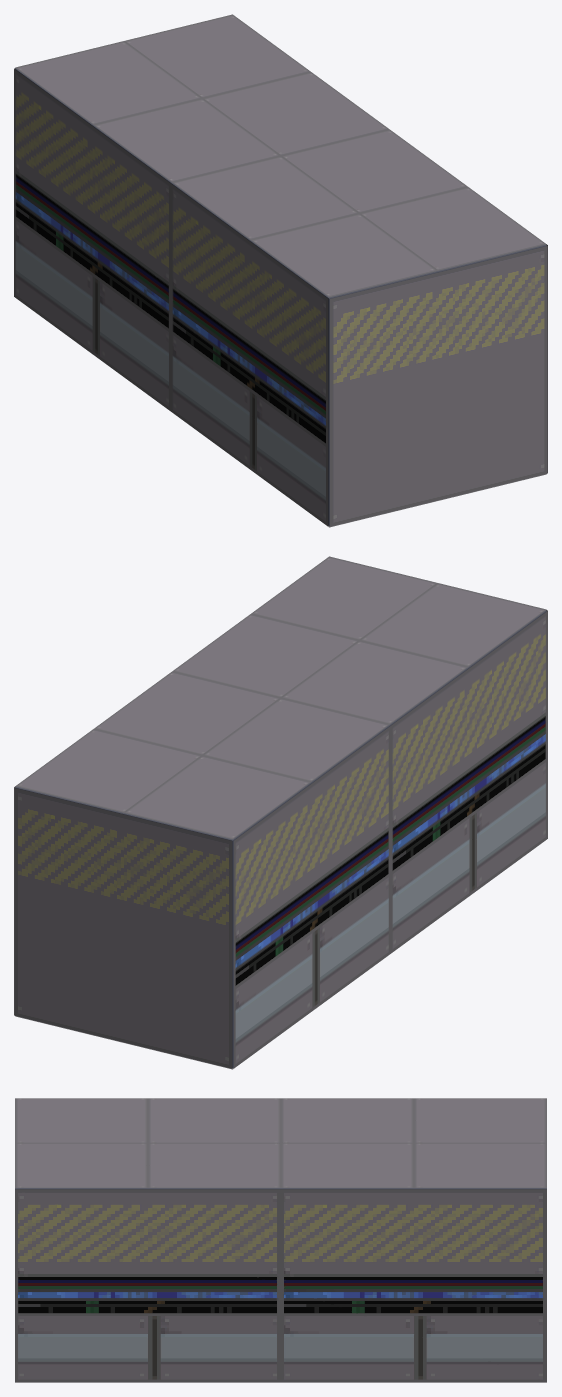
Rendered from hyperdrive.obj.
The picture shows the model from 3 angles, top to bottom: view 1: azimuth 30°, elevation 25°; view 2: azimuth 150°, elevation 25°; view 3: azimuth 270°, elevation 25°; orthographic projection. The views are drawn at different scales.
Visible parts, largest first — view 1: Hyperdrive5, Hyperdrive7, Hyperdrive3, Hyperdrive1; view 2: Hyperdrive5, Hyperdrive7, Hyperdrive2, Hyperdrive1; view 3: Hyperdrive6, Hyperdrive7, Hyperdrive1, Hyperdrive4.
Boxes of the visible parts, x1,y1,x2,y2 form: Hyperdrive5: [14, 69, 327, 526]; Hyperdrive7: [15, 14, 546, 297]; Hyperdrive3: [330, 246, 547, 526]; Hyperdrive1: [15, 68, 546, 526]; Hyperdrive5: [234, 611, 547, 1068]; Hyperdrive7: [15, 556, 546, 839]; Hyperdrive2: [14, 788, 231, 1068]; Hyperdrive1: [15, 610, 546, 1068]; Hyperdrive6: [15, 1189, 546, 1382]; Hyperdrive7: [15, 1098, 546, 1187]; Hyperdrive1: [15, 1188, 546, 1189]; Hyperdrive4: [15, 1382, 546, 1382].
Size of the model in its own units: 4.04 by 4.04 by 10.04.
4 materials, 3 textured.
